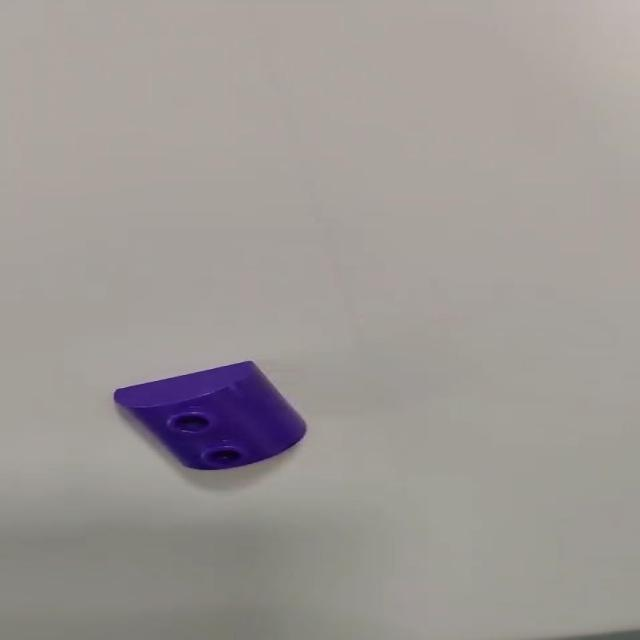H2x2x1: (116, 359, 306, 471)
